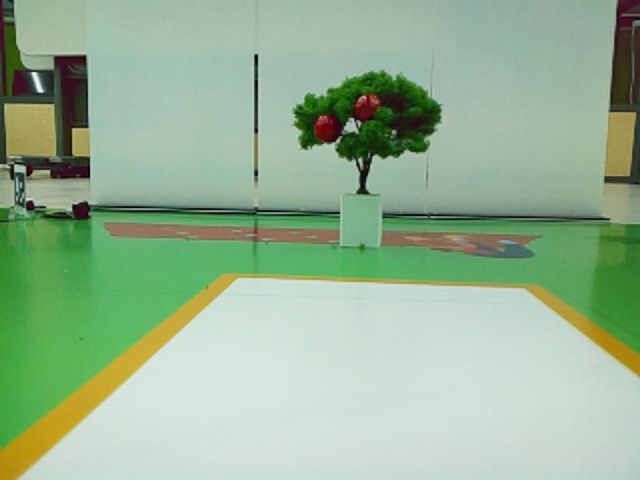apple: (355, 95, 381, 119), (315, 116, 335, 141)
